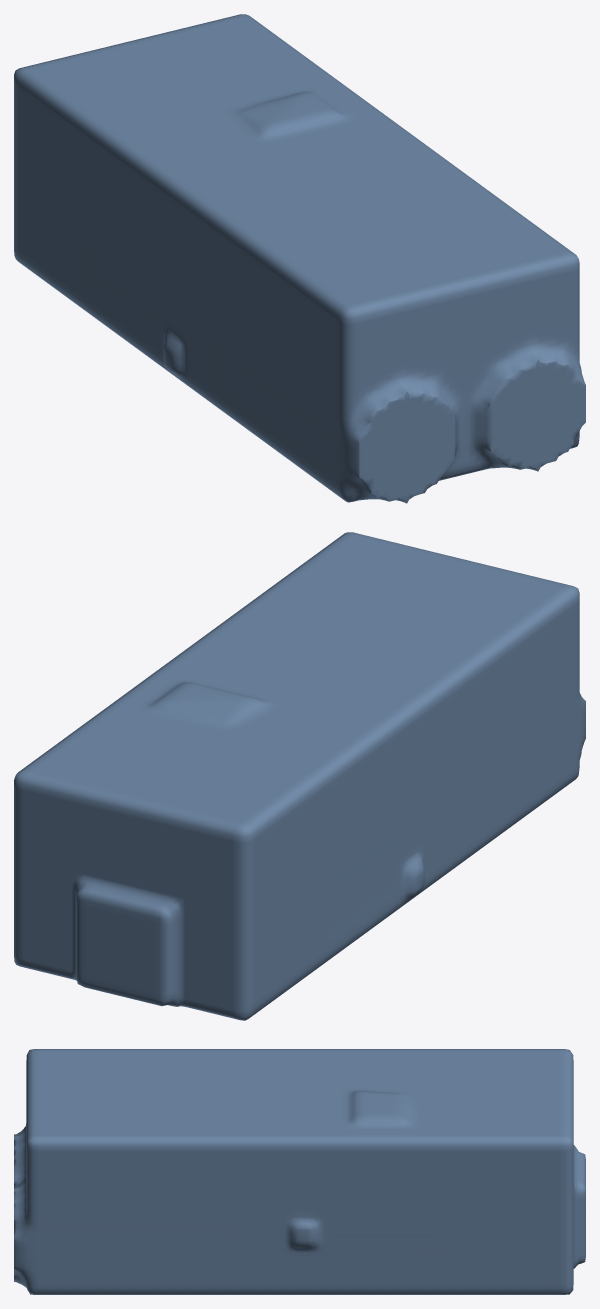
The model's file is staff-engineer-work.glb.
3 views of the same model, one above another, from view 1: azimuth 30°, elevation 25°; view 2: azimuth 150°, elevation 25°; view 3: azimuth 270°, elevation 25° (orthographic). The views are drawn at different scales.
Visible parts, largest first — view 1: Leg_-1; view 2: Leg_-1; view 3: Leg_-1.
Boxes of the visible parts, <box> form: Leg_-1: <box>14,14,585,503</box>; Leg_-1: <box>14,532,585,1020</box>; Leg_-1: <box>14,1049,585,1294</box>.
Size of the model in its own units: 0.5076 by 0.3919 by 1.23.
